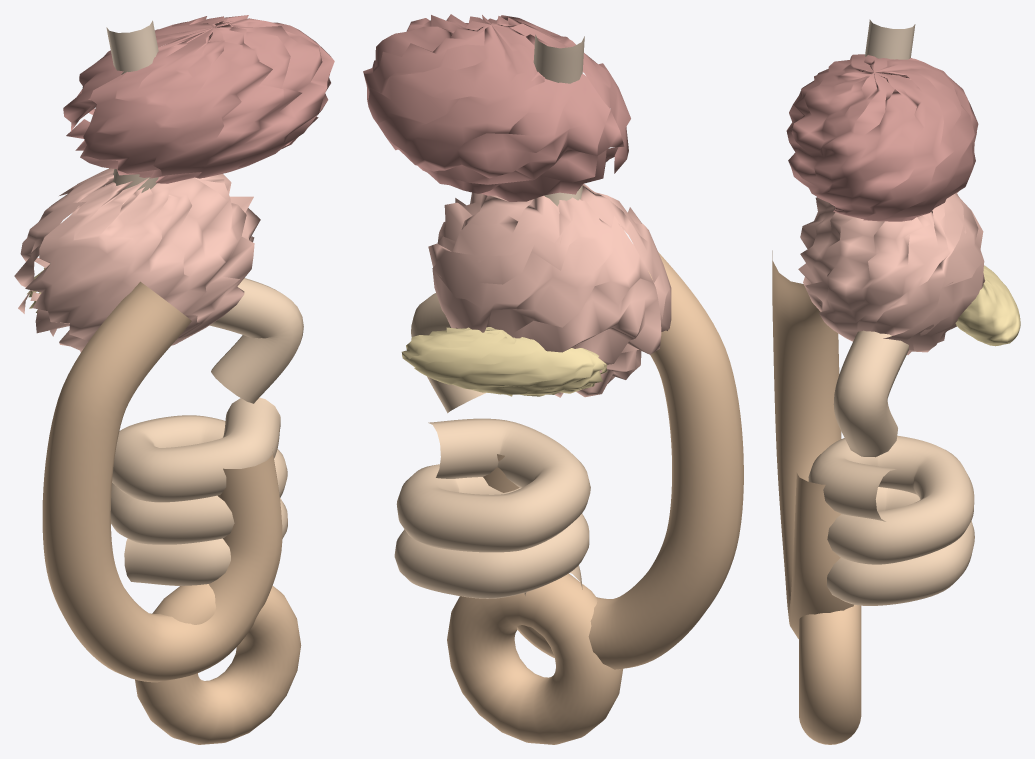
The model's file is digestive-system.glb.
3 renders of one model, left to right at view 1: azimuth 30°, elevation 25°; view 2: azimuth 150°, elevation 25°; view 3: azimuth 270°, elevation 25°, orthographic. The views are drawn at different scales.
Parts seen in each view (by area): view 1: large_intestine, liver, stomach, small_intestine, sigmoid_colon, duodenum, esophagus; view 2: liver, stomach, large_intestine, small_intestine, sigmoid_colon, pancreas, esophagus, duodenum; view 3: liver, small_intestine, stomach, large_intestine, sigmoid_colon, duodenum, pancreas, esophagus.
Part boxes in pixels (bbox=[...]): large_intestine: bbox=[42, 281, 282, 682]; liver: bbox=[63, 15, 334, 183]; stomach: bbox=[14, 168, 260, 352]; small_intestine: bbox=[110, 397, 287, 585]; sigmoid_colon: bbox=[135, 584, 301, 744]; duodenum: bbox=[209, 278, 303, 403]; esophagus: bbox=[106, 20, 158, 192]; liver: bbox=[363, 14, 630, 201]; stomach: bbox=[428, 183, 671, 397]; large_intestine: bbox=[483, 252, 743, 669]; small_intestine: bbox=[394, 418, 590, 598]; sigmoid_colon: bbox=[447, 573, 622, 744]; pancreas: bbox=[401, 327, 607, 396]; esophagus: bbox=[533, 34, 584, 206]; duodenum: bbox=[411, 293, 486, 413]; liver: bbox=[786, 54, 978, 221]; small_intestine: bbox=[808, 435, 974, 605]; stomach: bbox=[798, 191, 984, 354]; large_intestine: bbox=[772, 250, 853, 638]; sigmoid_colon: bbox=[799, 605, 861, 744]; duodenum: bbox=[833, 330, 908, 457]; pancreas: bbox=[955, 265, 1020, 346]; esophagus: bbox=[865, 19, 915, 59].
Size of the model in its own units: 0.806 by 1.74 by 0.5662.
